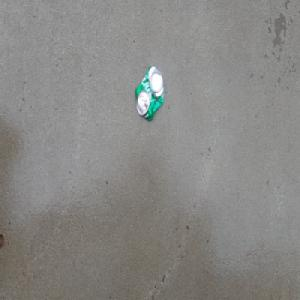SodaCan: (134, 63, 165, 122)
